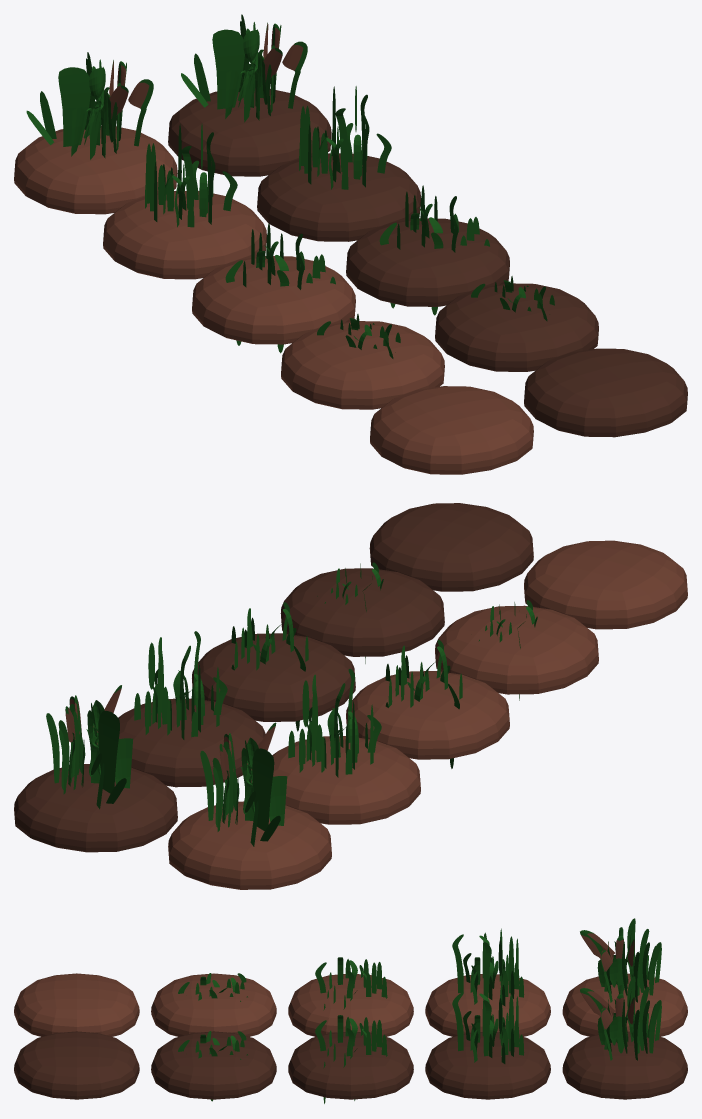
File: plants.glb
The picture shows the model from 3 angles, top to bottom: view 1: azimuth 30°, elevation 25°; view 2: azimuth 150°, elevation 25°; view 3: azimuth 270°, elevation 25°; orthographic projection. The views are drawn at different scales.
Visible parts, largest first — view 1: plant04, Plant_w03, plant02, Plant_w02, Plant01, Plant_w01, Soil, Soil_w, Plant00, Plant_w00; view 2: plant04, Plant_w03, plant02, Plant01, Soil_w, Soil, Plant00, Plant_w00, Plant_w02, Plant_w01; view 3: Plant_w03, Plant_w02, Plant_w01, Plant_w00, Soil_w, plant02, plant04, Plant01, Soil, Plant00.
Boxes of the visible parts, x1,y1,x2,y2 form: plant04: [14, 52, 177, 214]; Plant_w03: [168, 14, 331, 176]; plant02: [103, 123, 266, 279]; Plant_w02: [257, 86, 420, 241]; Plant01: [192, 223, 355, 353]; Plant_w01: [346, 185, 509, 315]; Soil: [370, 386, 533, 474]; Soil_w: [524, 348, 687, 437]; Plant00: [281, 314, 444, 409]; Plant_w00: [435, 276, 598, 371]; plant04: [168, 722, 331, 889]; Plant_w03: [14, 685, 177, 852]; plant02: [272, 669, 420, 824]; Plant01: [346, 640, 509, 768]; Soil_w: [369, 503, 533, 591]; Soil: [524, 540, 687, 629]; Plant00: [435, 600, 598, 700]; Plant_w00: [280, 562, 444, 663]; Plant_w02: [118, 631, 265, 787]; Plant_w01: [192, 602, 355, 731]; Plant_w03: [562, 976, 687, 1099]; Plant_w02: [425, 986, 550, 1099]; Plant_w01: [288, 1015, 413, 1103]; Plant_w00: [151, 1031, 276, 1101]; Soil_w: [14, 1031, 139, 1099]; plant02: [425, 928, 550, 1036]; plant04: [562, 918, 687, 1036]; Plant01: [288, 957, 413, 1036]; Soil: [14, 973, 139, 1036]; Plant00: [151, 973, 276, 1036].
Size of the model in its own units: 3.83 by 1.85 by 9.83.
